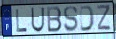B: (46, 6, 63, 34)
D: (79, 5, 96, 32)
L: (15, 8, 28, 33)
S: (63, 5, 79, 33)
U: (30, 7, 45, 34)
Z: (96, 5, 112, 32)
